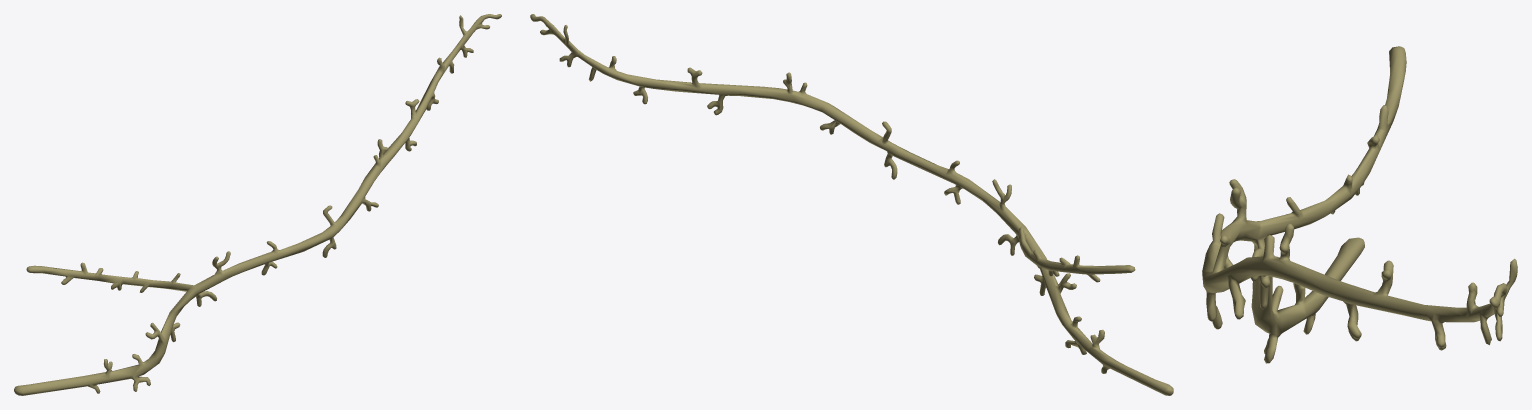
Rendered from Pancreatic_duct.glb.
3 views of the same model, side by side, from view 1: azimuth 30°, elevation 25°; view 2: azimuth 150°, elevation 25°; view 3: azimuth 270°, elevation 25° (orthographic). The views are drawn at different scales.
Parts seen in each view (by area): view 1: Pancreatic_duct_Generated_Mesh_From_X3D.004; view 2: Pancreatic_duct_Generated_Mesh_From_X3D.004; view 3: Pancreatic_duct_Generated_Mesh_From_X3D.004.
Part boxes in pixels (left/top/right/bottom): Pancreatic_duct_Generated_Mesh_From_X3D.004: left=14, top=14, right=501, bottom=395; Pancreatic_duct_Generated_Mesh_From_X3D.004: left=530, top=14, right=1173, bottom=395; Pancreatic_duct_Generated_Mesh_From_X3D.004: left=1202, top=46, right=1517, bottom=363.
Size of the model in its own units: 0.1208 by 0.053 by 0.0316.
